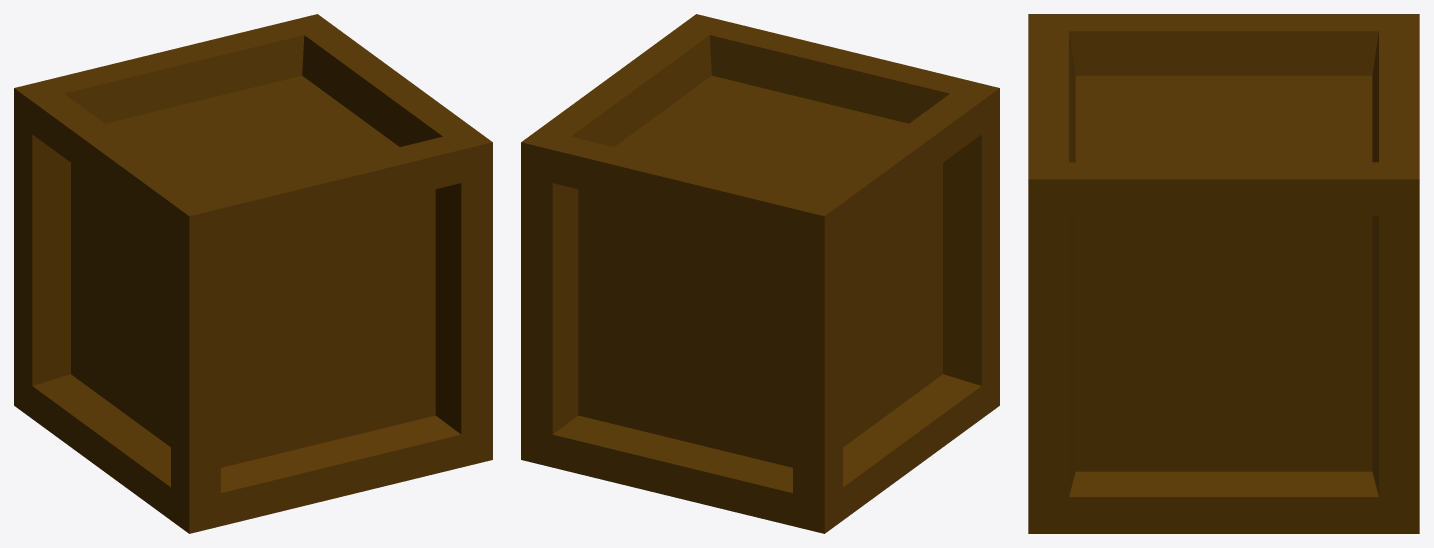
3 renders of one model, left to right at view 1: azimuth 30°, elevation 25°; view 2: azimuth 150°, elevation 25°; view 3: azimuth 270°, elevation 25°, orthographic. The views are drawn at different scales.
Parts seen in each view (by area): view 1: Cube; view 2: Cube; view 3: Cube.
Part boxes in pixels (x1,y1,x2,y2): Cube: (14, 14, 492, 533); Cube: (521, 14, 999, 533); Cube: (1028, 14, 1419, 533).
Size of the model in its own units: 200 by 200 by 200.
